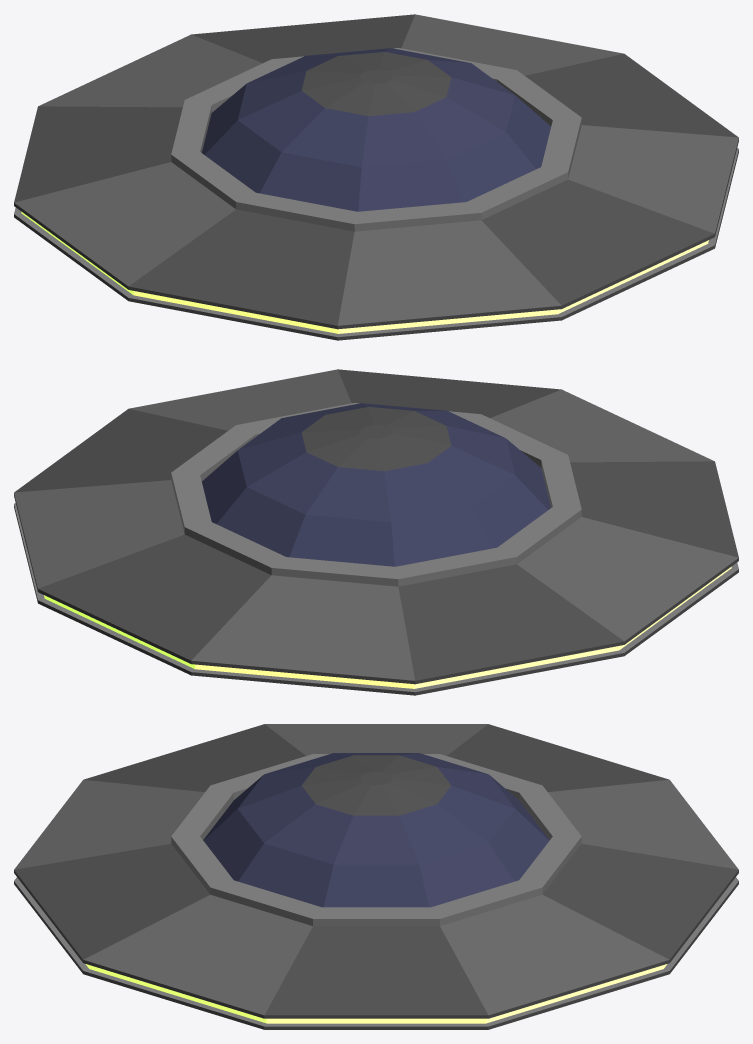
The model's file is ufo.glb.
3 views of the same model, one above another, from view 1: azimuth 30°, elevation 25°; view 2: azimuth 150°, elevation 25°; view 3: azimuth 270°, elevation 25° (orthographic). The views are drawn at different scales.
Parts seen in each view (by area): view 1: UFO_0; view 2: UFO_0; view 3: UFO_0.
Part boxes in pixels (box(x1,y1,x2,y2)): UFO_0: box(14, 14, 738, 340); UFO_0: box(14, 369, 738, 695); UFO_0: box(14, 724, 738, 1029).
Bounding box in the file's own units: 1.9 × 0.4894 × 2.
